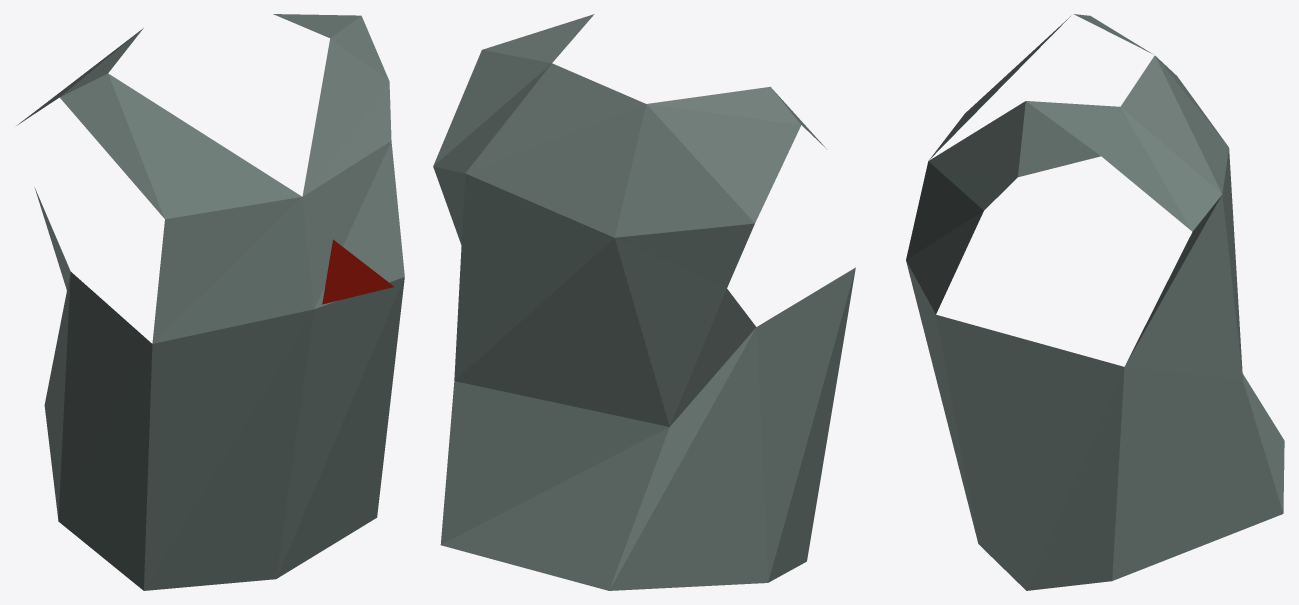
3 renders of one model, left to right at view 1: azimuth 30°, elevation 25°; view 2: azimuth 150°, elevation 25°; view 3: azimuth 270°, elevation 25°, orthographic. The views are drawn at different scales.
Size of the model in its own units: 0.4954 by 0.7747 by 0.5857.
2 materials, 2 textured.
